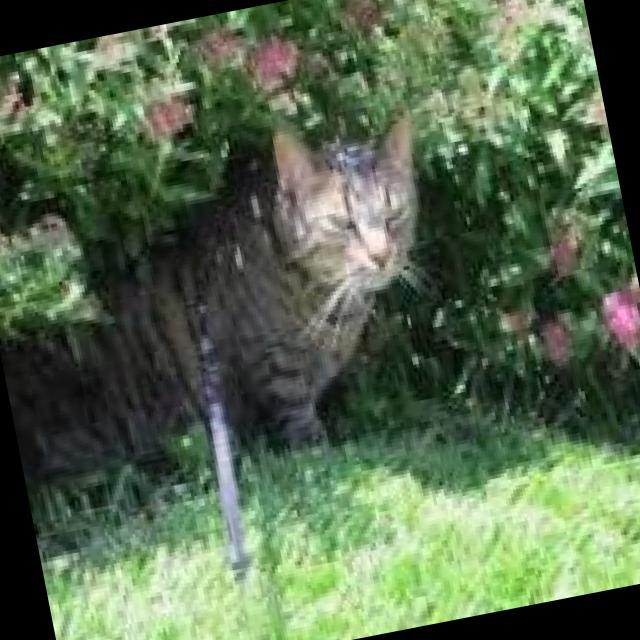Gato: (0, 89, 484, 509)
